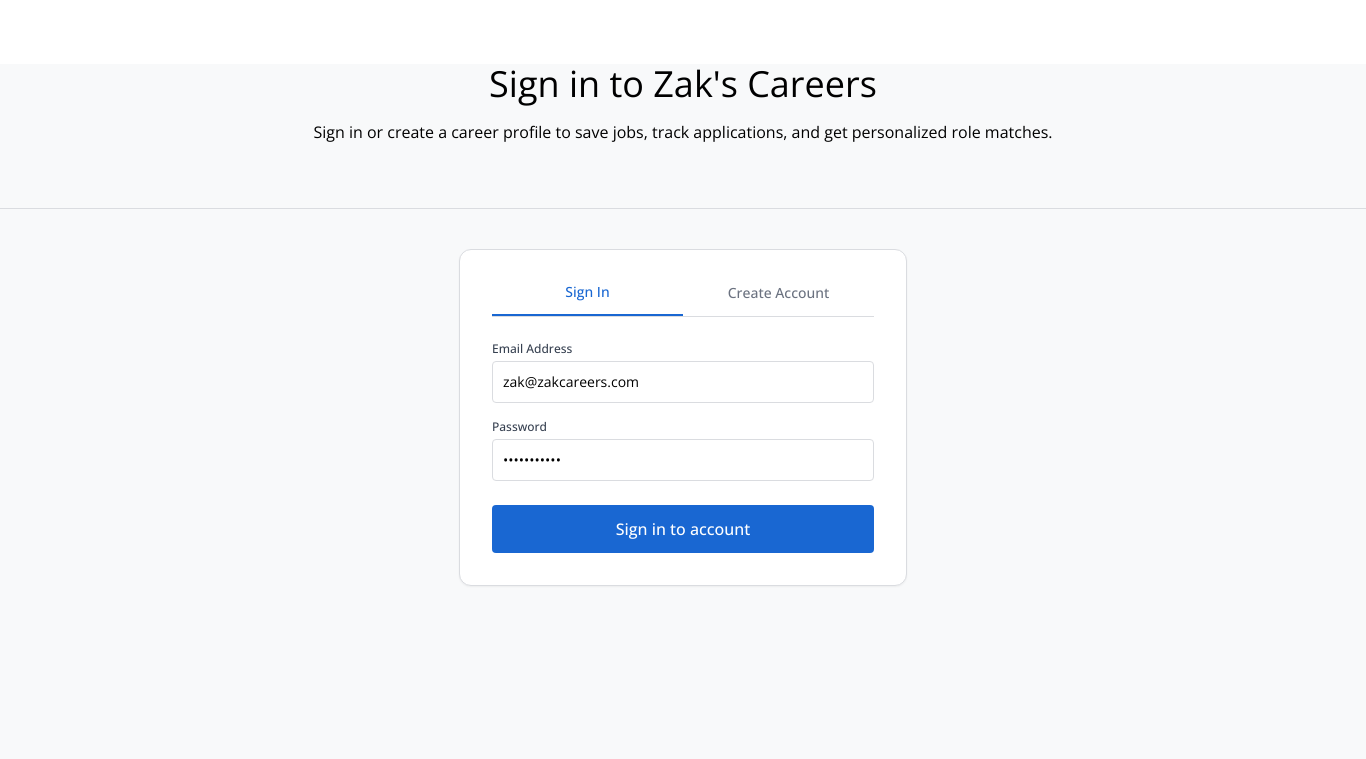
Test: ProfileView › allows user to sign in from the sign-in form when logged out
Click the button "Sign in to account".
click(683, 529)  # box [492,505,874,553]
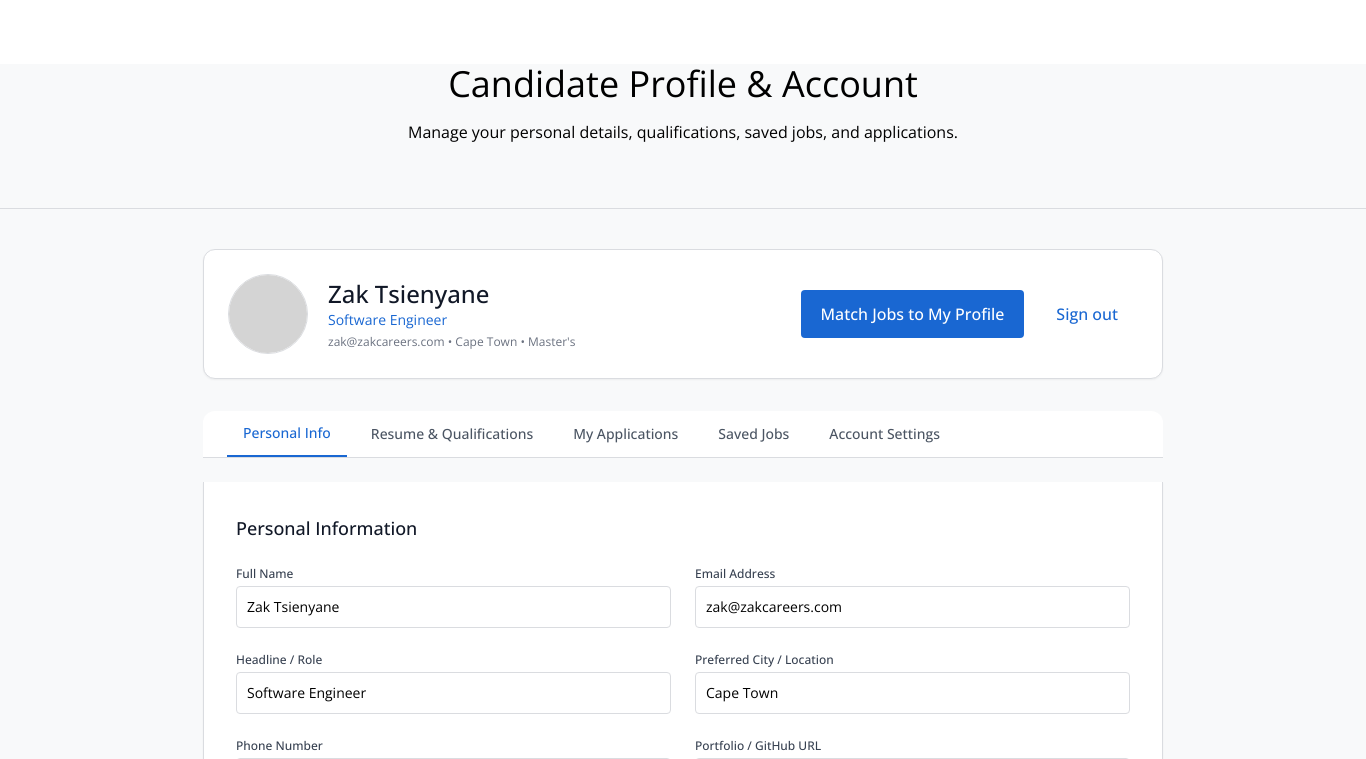
Result: the heading "Personal Information" is shown at [236,516,417,540]
